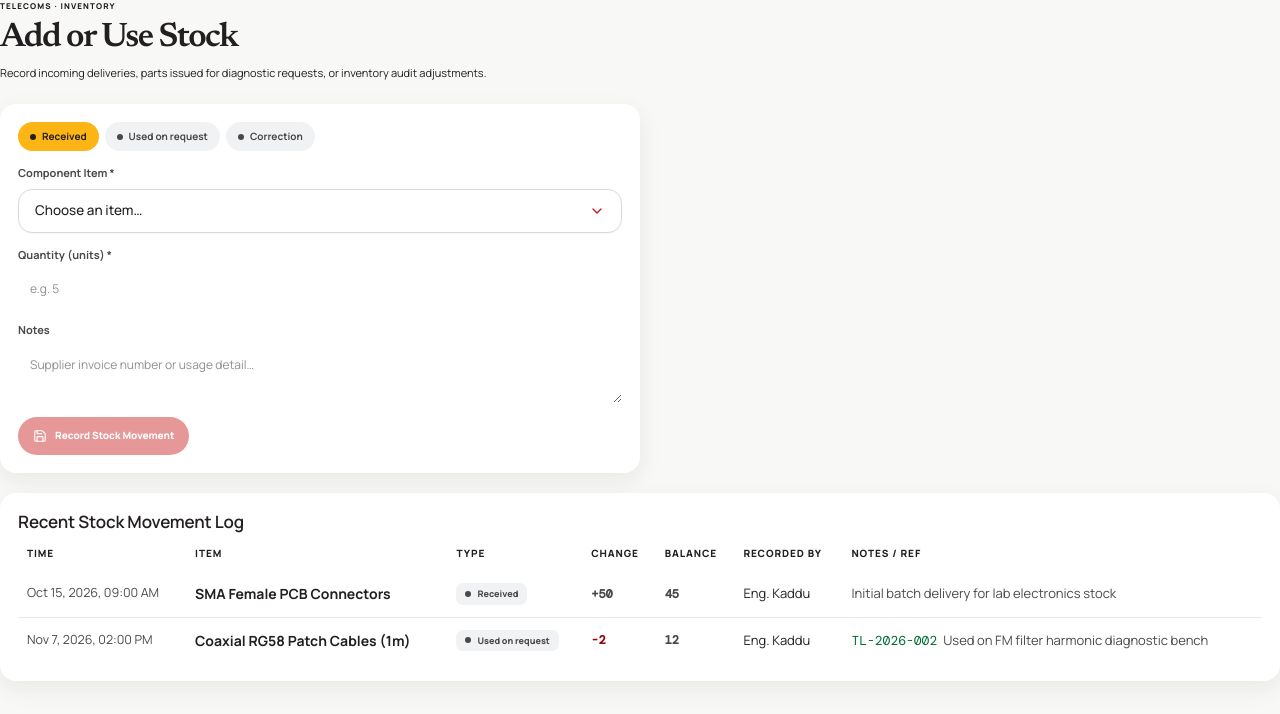
it: Telecoms Stock Inventory (TL9) › prevents submitting stock movements that result in negative quantity
Click the radio button labelled "Correction": [270, 137] box x1=226 y1=122 x2=315 y2=151
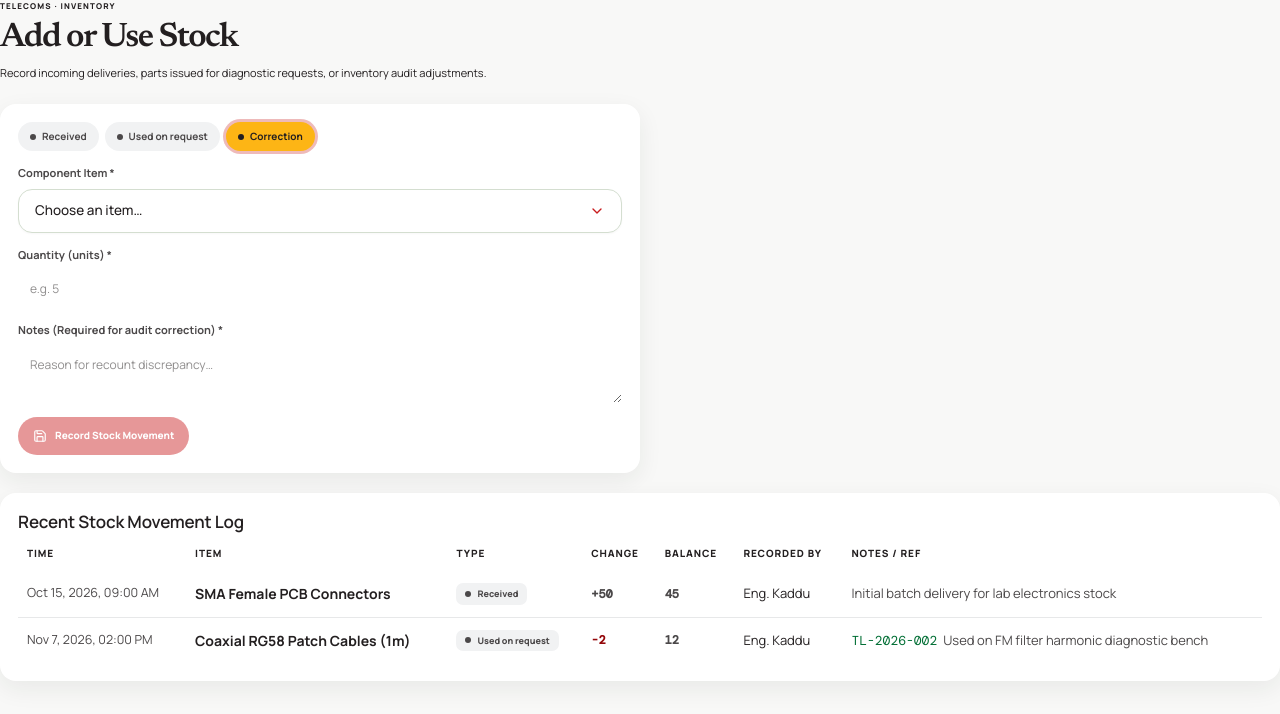
Select "SMA Female PCB Connectors (45 pcs in stock)" in the dropdown labelled "Component Item *": [66, 173] box x1=18 y1=165 x2=115 y2=180
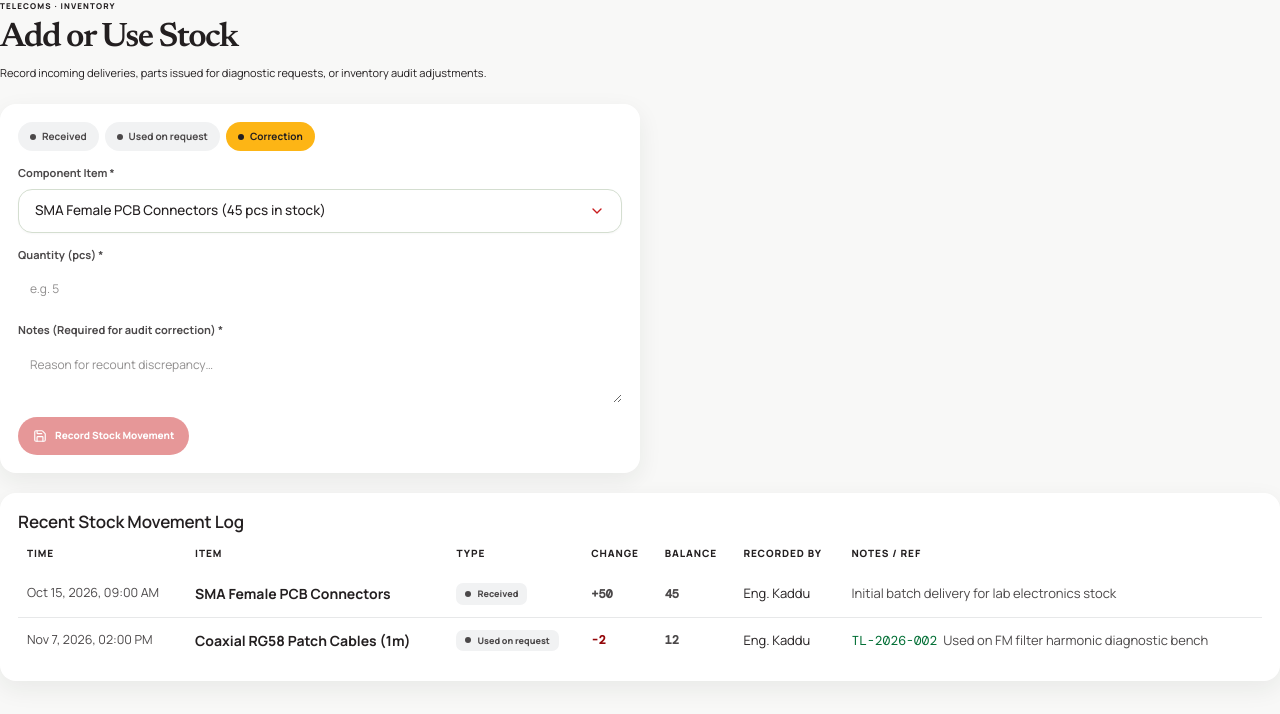
In the number field labelled "Quantity (pcs) *": [320, 289] box x1=18 y1=270 x2=622 y2=308, type "-999"
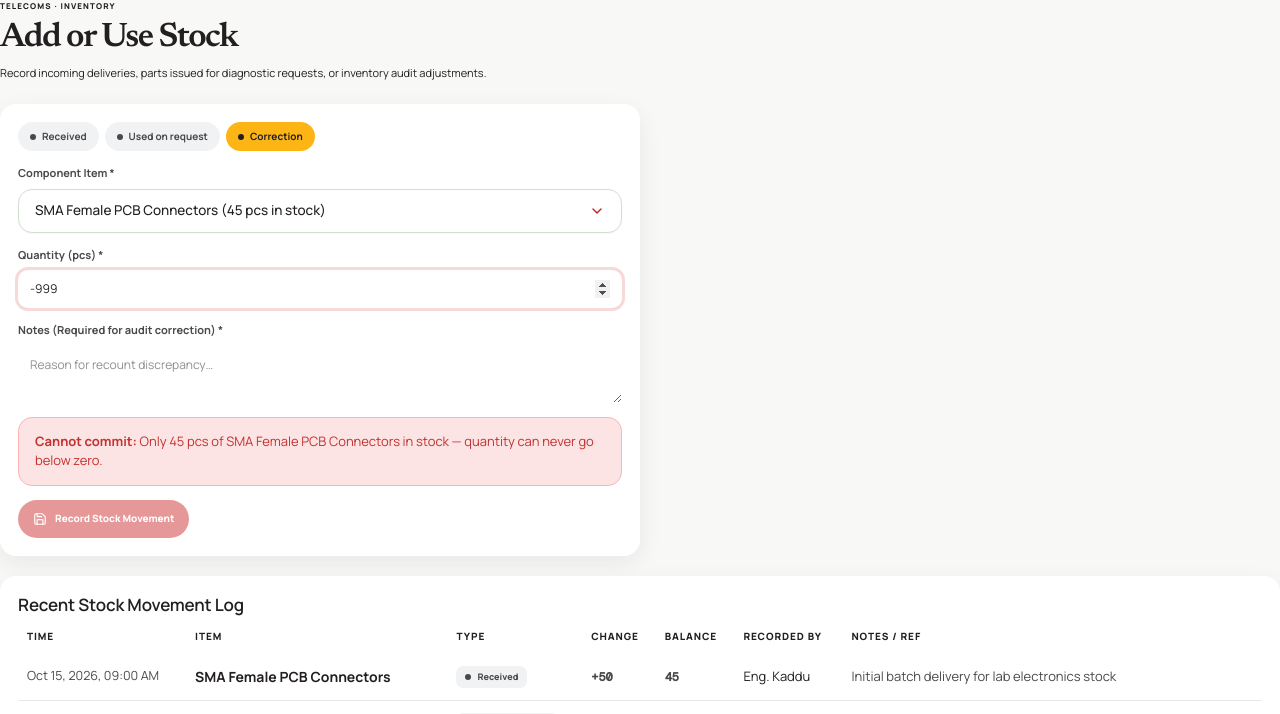
Expected: the button "Record Stock Movement" is disabled, x1=18 y1=500 x2=189 y2=538
Now the text "can never go below zero" is shown, box x1=35 y1=432 x2=594 y2=469
